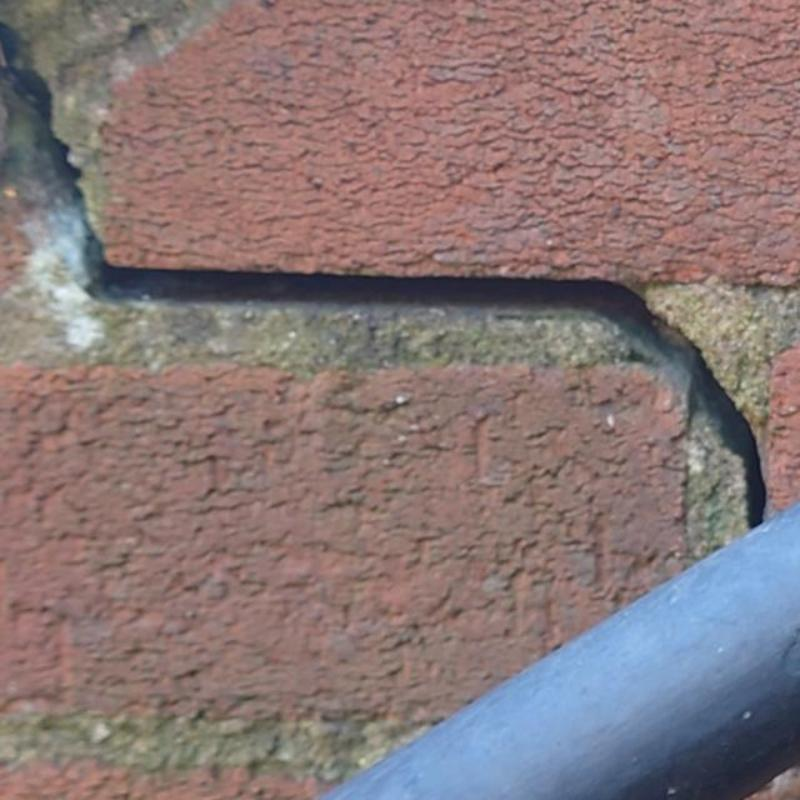pothole: (0, 23, 766, 524)
